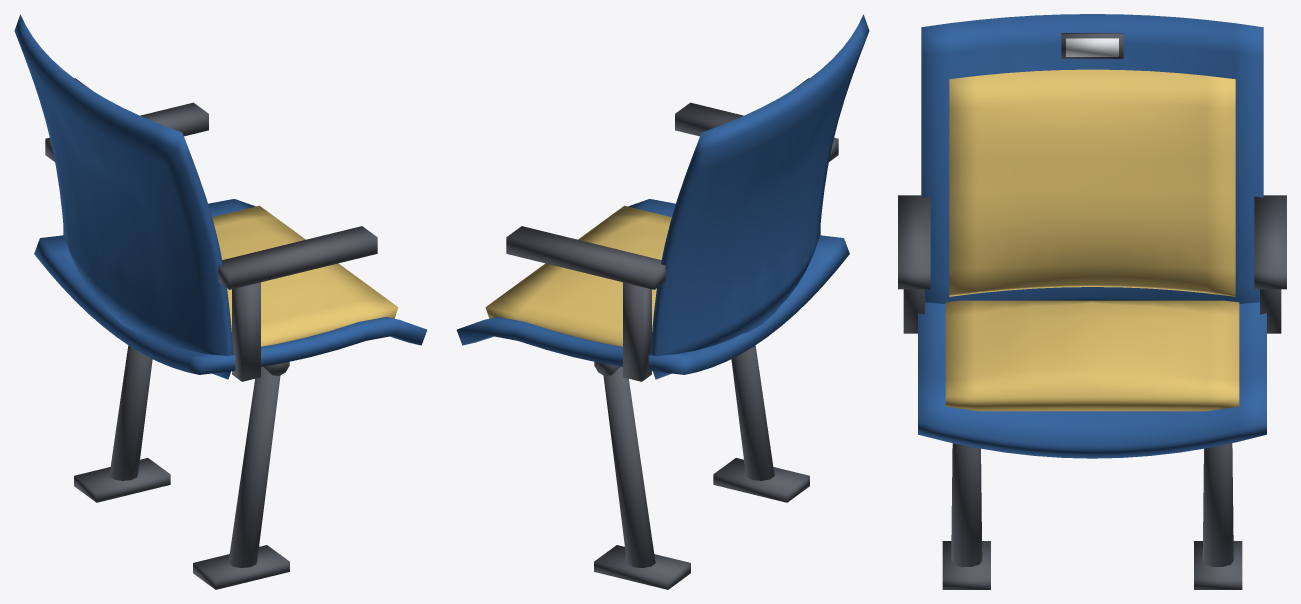
File: seat_vip_lod0.glb
The picture shows the model from 3 angles, left to right: view 1: azimuth 30°, elevation 25°; view 2: azimuth 150°, elevation 25°; view 3: azimuth 270°, elevation 25°; orthographic projection. The views are drawn at different scales.
Parts seen in each view (by area): view 1: SEAT_VIP_MASTER_LOD0; view 2: SEAT_VIP_MASTER_LOD0; view 3: SEAT_VIP_MASTER_LOD0.
Boxes of the visible parts, x1=… form: SEAT_VIP_MASTER_LOD0: x1=14, y1=14, x2=427, y2=589; SEAT_VIP_MASTER_LOD0: x1=456, y1=14, x2=869, y2=589; SEAT_VIP_MASTER_LOD0: x1=898, y1=14, x2=1286, y2=589.
Size of the model in its own units: 0.557 by 0.9236 by 0.6456.
